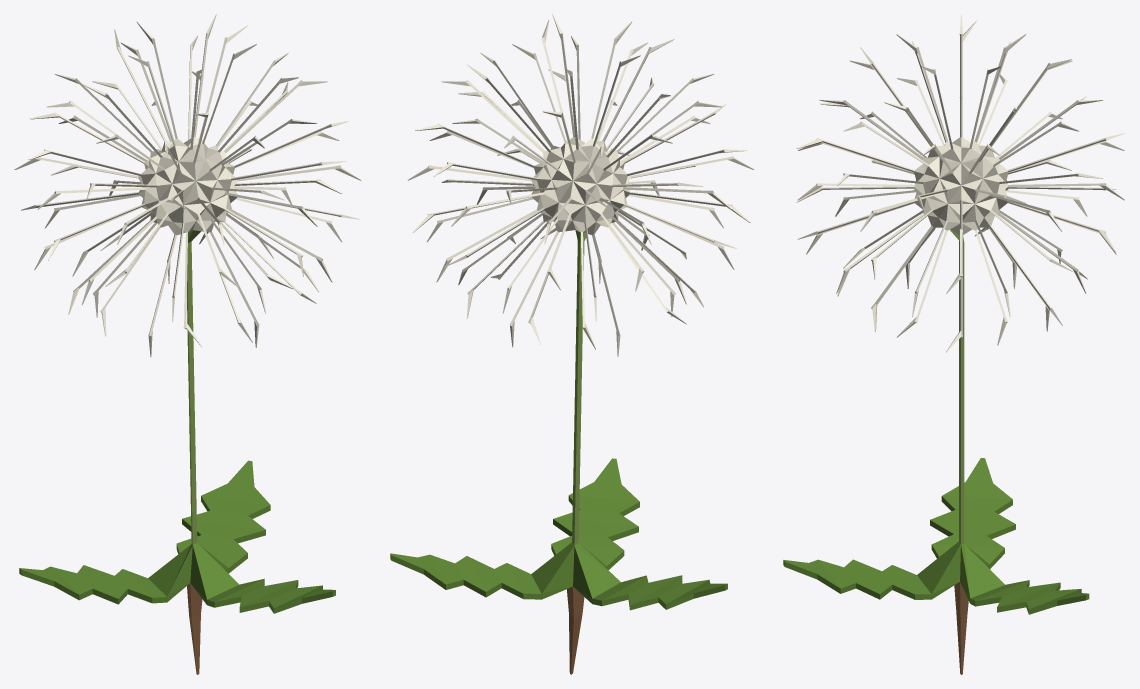
File: NEW_RECOVERY_131_LOD2.fbx
3 renders of one model, left to right at view 1: azimuth 30°, elevation 25°; view 2: azimuth 150°, elevation 25°; view 3: azimuth 270°, elevation 25°, orthographic.
Parts seen in each view (by area): view 1: Dandelion; view 2: Dandelion; view 3: Dandelion.
Boxes of the visible parts, <box> form: Dandelion: <box>14,14,361,674</box>; Dandelion: <box>390,14,754,674</box>; Dandelion: <box>783,14,1125,674</box>.
Size of the model in its own units: 81.07 by 78.93 by 160.
